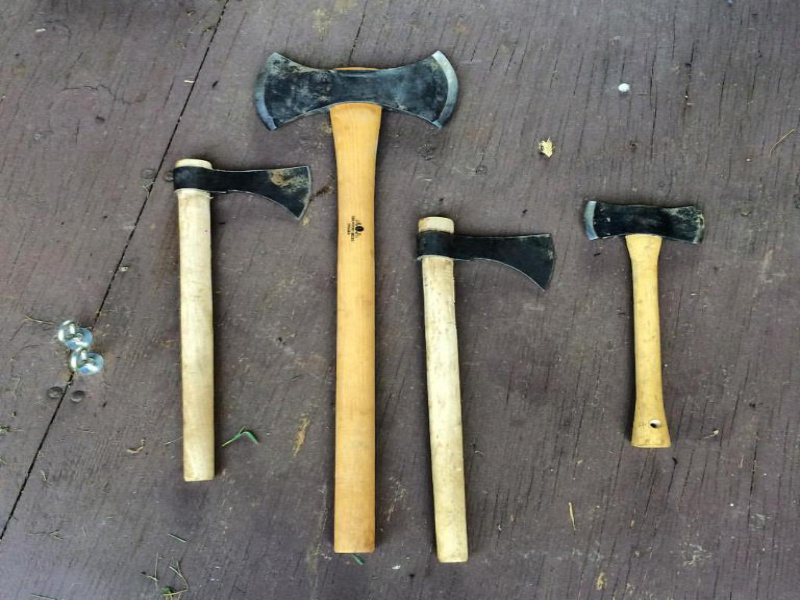axe: (248, 44, 472, 157), (411, 211, 559, 343), (167, 156, 315, 276), (578, 190, 716, 299)
